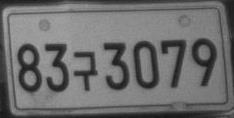0: (133, 39, 160, 89)
3: (102, 41, 130, 90), (44, 42, 70, 92)
7: (160, 38, 187, 88)
8: (16, 42, 42, 92)
9: (190, 37, 218, 87)
구: (72, 50, 98, 91)
